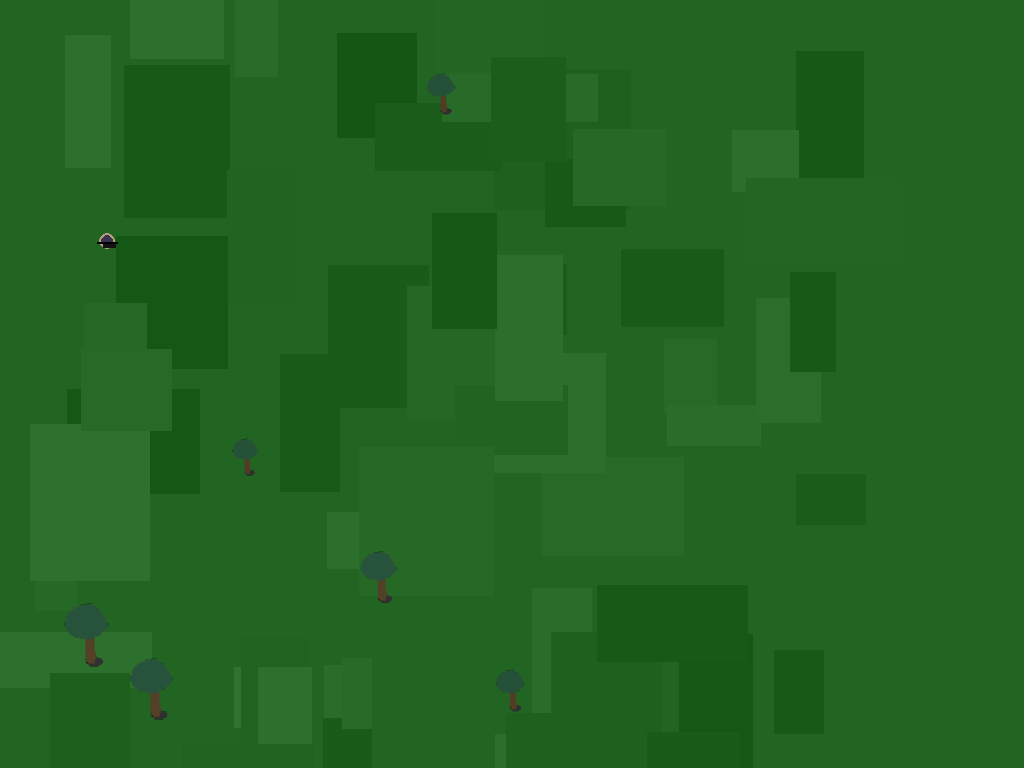RocketTrooper: (91, 226, 121, 256)
